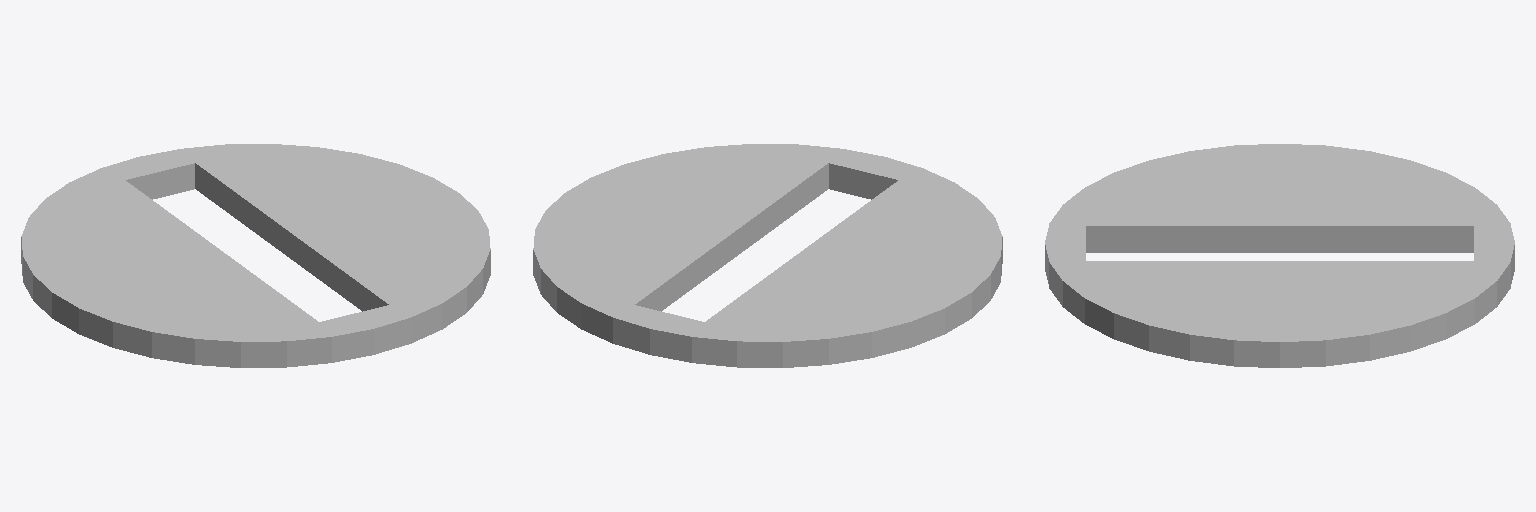
The model's file is moldeq.obj.
3 renders of one model, left to right at view 1: azimuth 30°, elevation 25°; view 2: azimuth 150°, elevation 25°; view 3: azimuth 270°, elevation 25°, orthographic.
Parts seen in each view (by area): view 1: Cylinder.002_Cylinder.001; view 2: Cylinder.002_Cylinder.001; view 3: Cylinder.002_Cylinder.001.
Part boxes in pixels (x1,y1,x2,y2): Cylinder.002_Cylinder.001: (21,144,490,367); Cylinder.002_Cylinder.001: (533,144,1002,367); Cylinder.002_Cylinder.001: (1045,144,1514,367).
Size of the model in its own units: 5.26 by 0.3232 by 5.26.